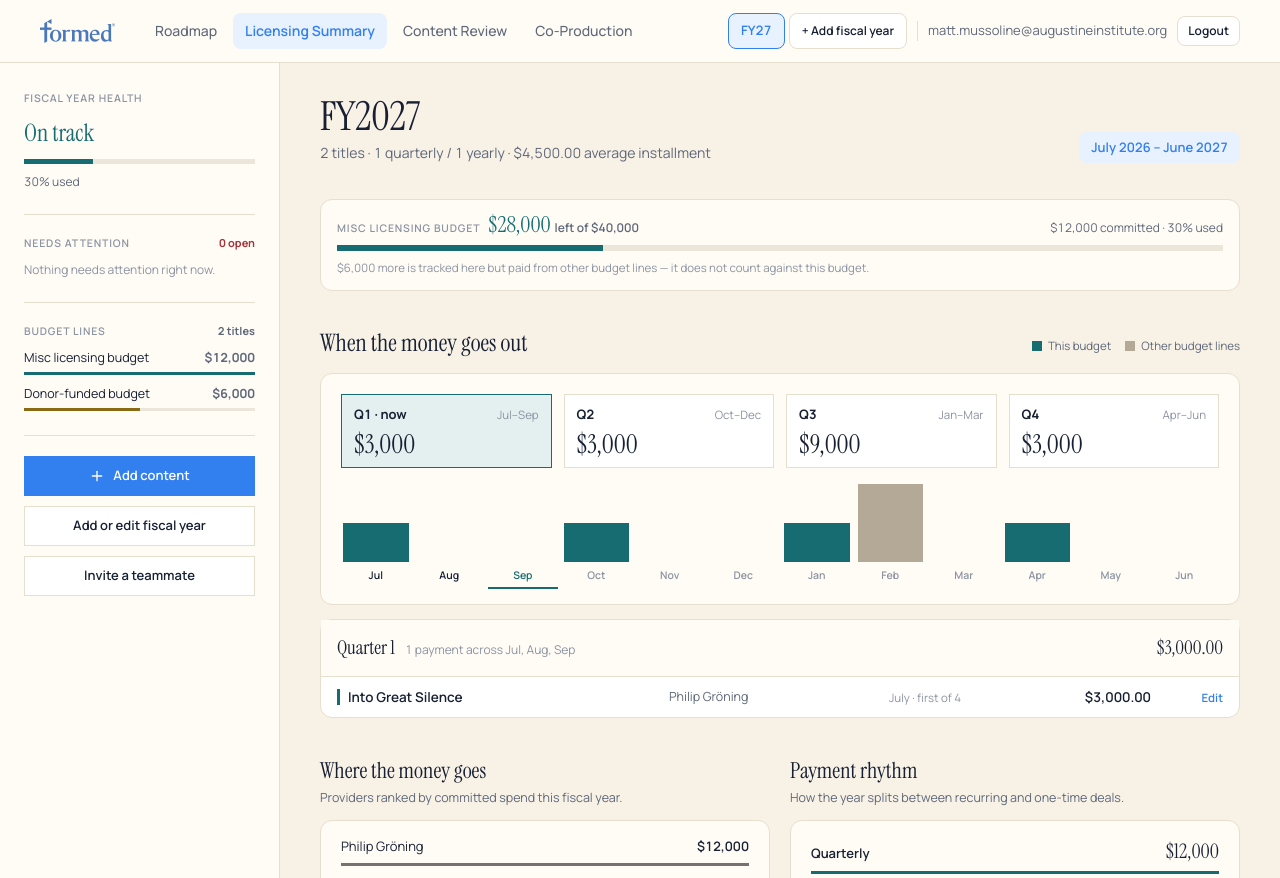
Test: LicensingSummary › reports an empty period rather than falling back to the whole year
The width and height of the screenshot is (1280, 878).
Click the button with aria-label "March: $0.00". click: {"x": 964, "y": 534}
box: [929,480,998,589]
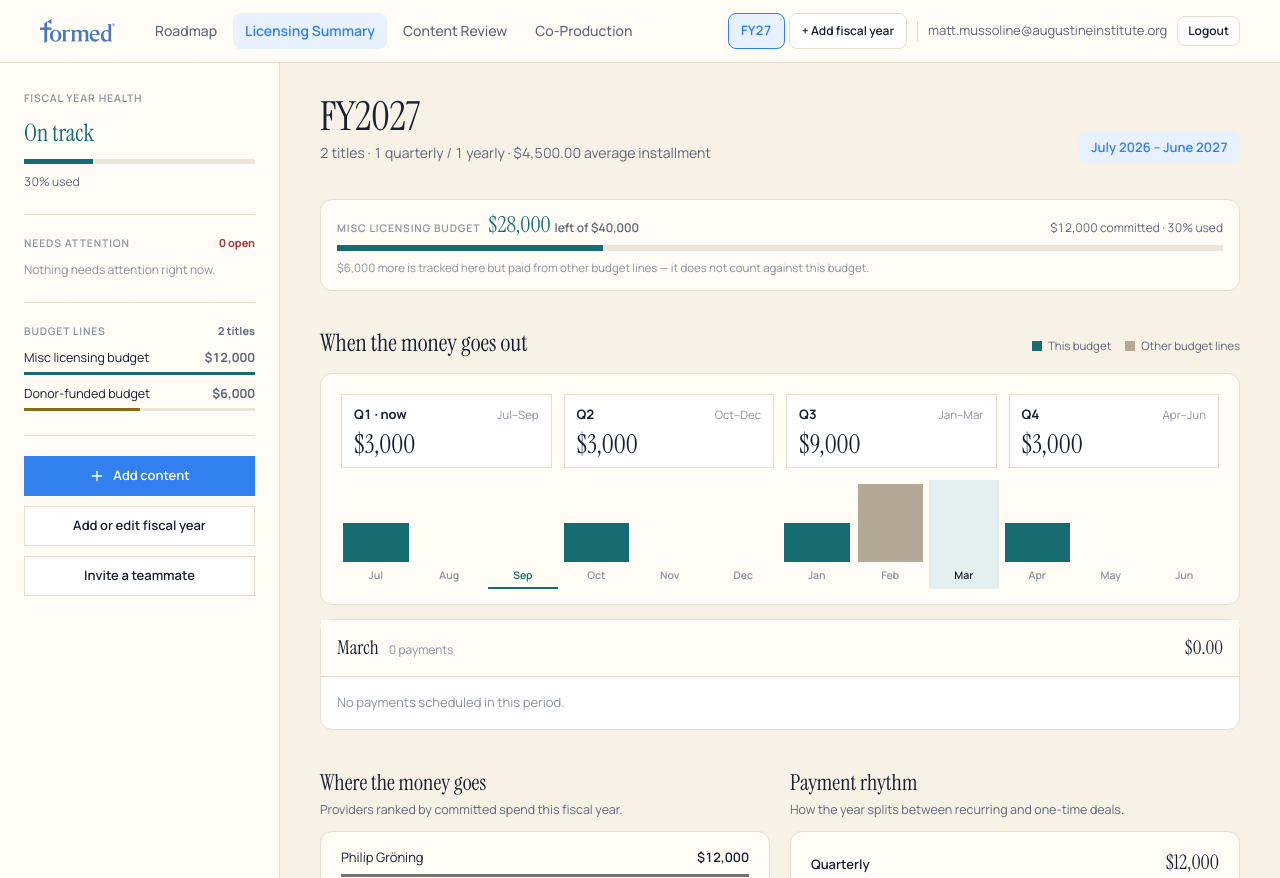
Check: the heading "March" is shown, box [337,634,379,662]
Check: the text "No payments scheduled in this period." is shown, box [337,693,564,711]
